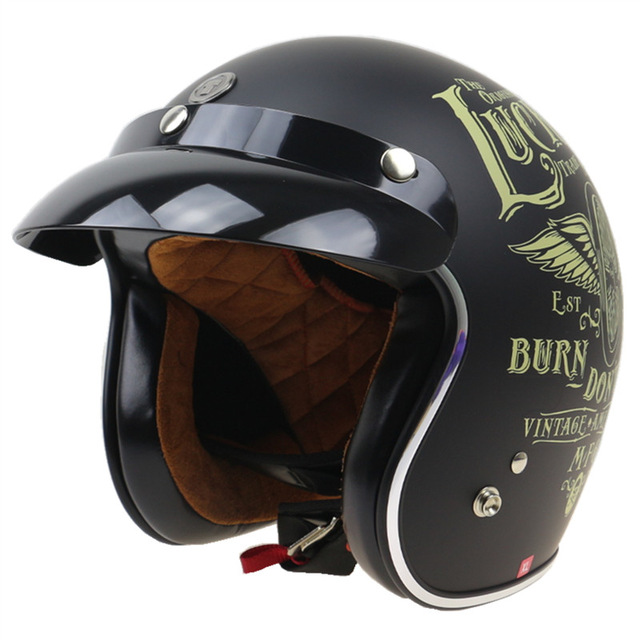with_helmet: (11, 29, 627, 611)
